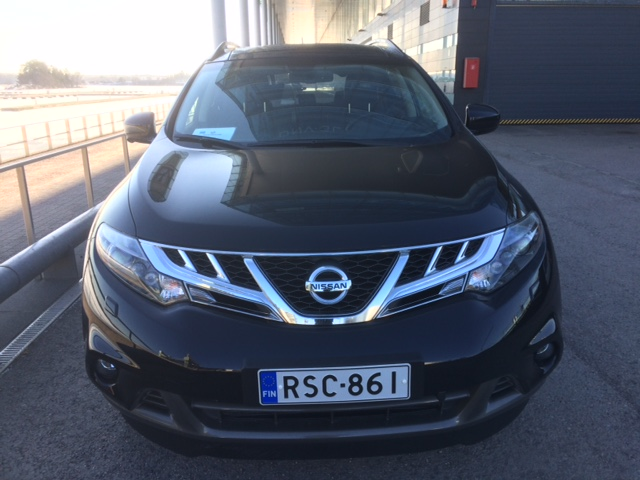license: (257, 364, 409, 408)
